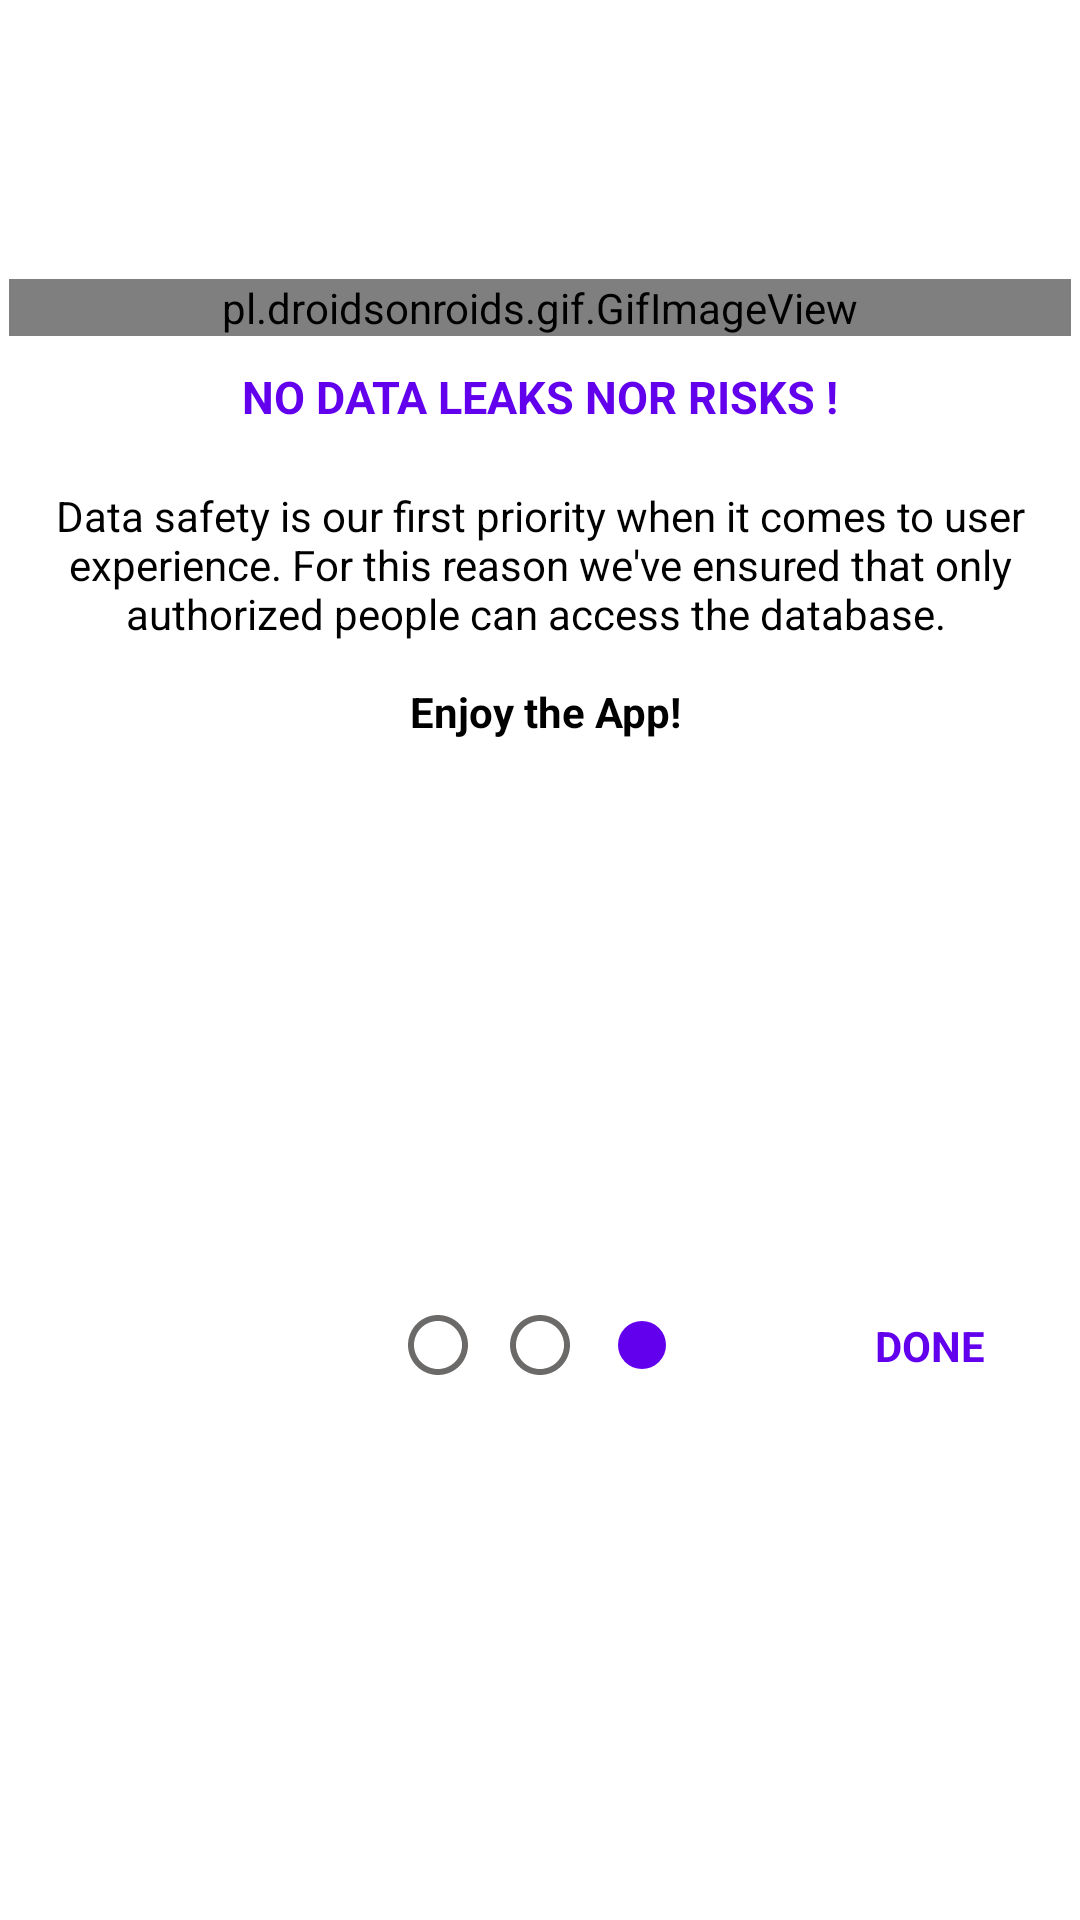

Where to tap for icons on this 1080x1920 app screen, as (x=x, y=y):
checked: (x=642, y=1345)
unchecked: (x=438, y=1345), (x=540, y=1345)
